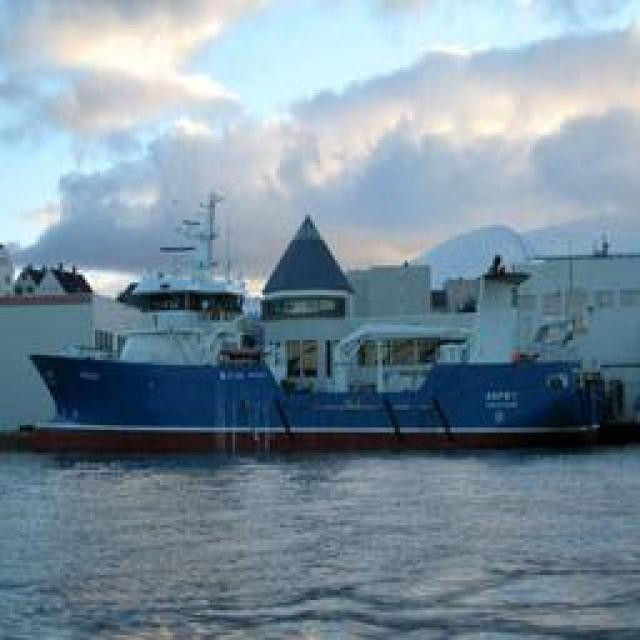ship2: (30, 184, 639, 450)
